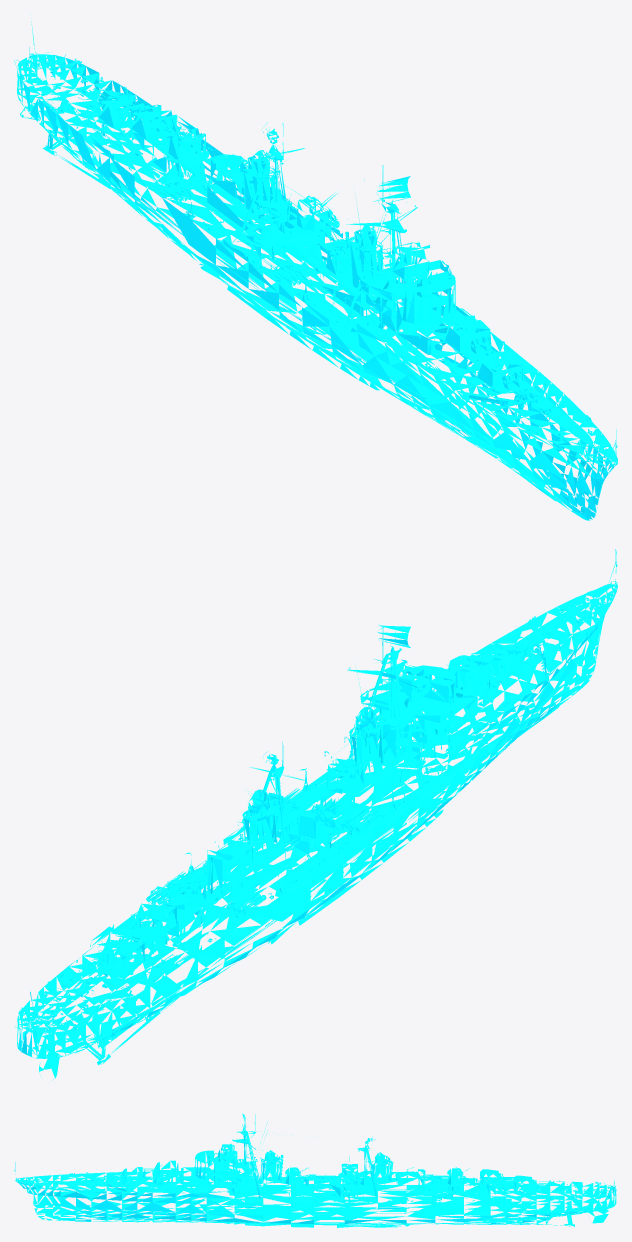
The model's file is PFSD820.glb.
The picture shows the model from 3 angles, top to bottom: view 1: azimuth 30°, elevation 25°; view 2: azimuth 150°, elevation 25°; view 3: azimuth 270°, elevation 25°; orthographic projection. The views are drawn at different scales.
Visible parts, largest first — view 1: hull, turret; view 2: hull, turret; view 3: hull, turret.
Boxes of the visible parts, x1,y1,x2,y2 form: hull: (14, 18, 617, 520); turret: (88, 87, 532, 393); hull: (15, 549, 617, 1080); turret: (88, 637, 532, 977); hull: (14, 1113, 616, 1227); turret: (104, 1156, 554, 1201).
Bounding box in the file's own units: 0.9045 × 1.91 × 9.44.
